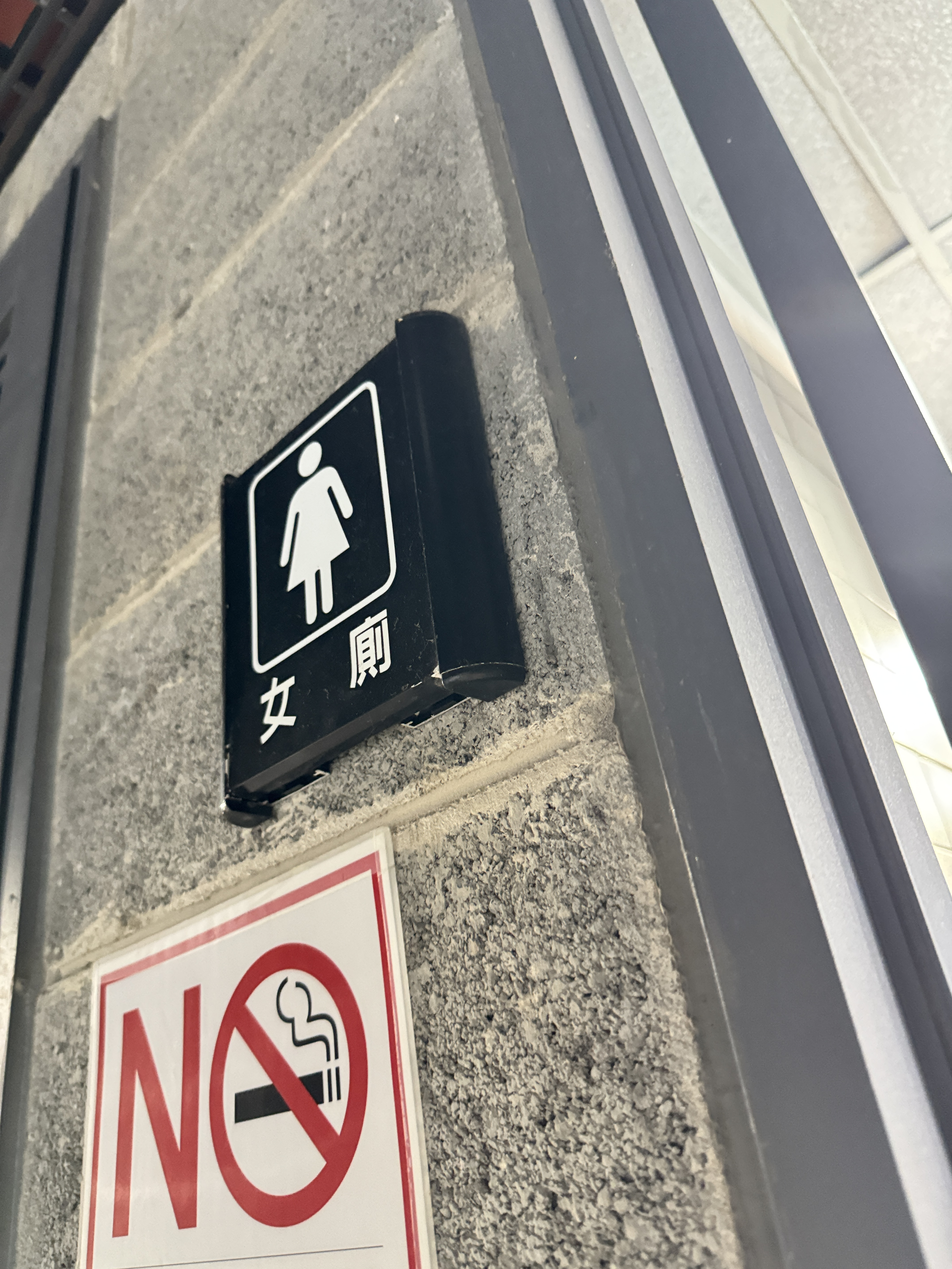toilet_sign: (203, 313, 566, 832), (164, 315, 553, 792)
